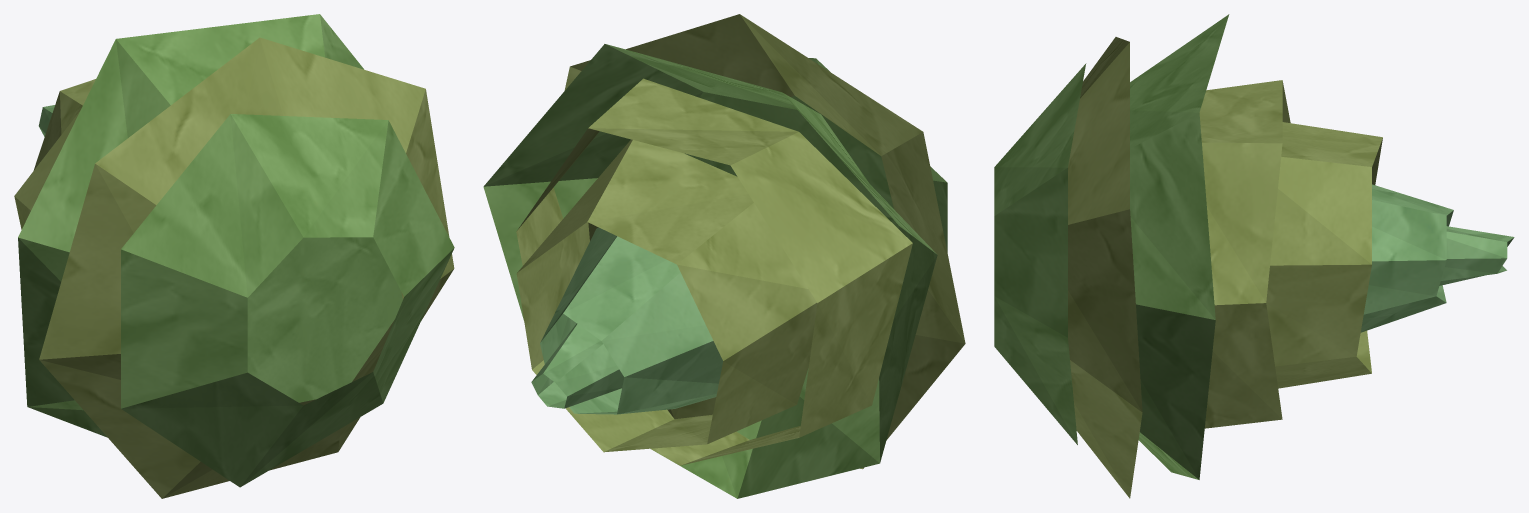
The model's file is bush.FBX.
3 renders of one model, left to right at view 1: azimuth 30°, elevation 25°; view 2: azimuth 150°, elevation 25°; view 3: azimuth 270°, elevation 25°, orthographic. The views are drawn at different scales.
Visible parts, largest first — view 1: Cylinder008; view 2: Cylinder008; view 3: Cylinder008.
Boxes of the visible parts, bbox=[...] form: Cylinder008: bbox=[14, 14, 454, 498]; Cylinder008: bbox=[483, 14, 965, 498]; Cylinder008: bbox=[994, 14, 1514, 498].
Size of the model in its own units: 139 by 141 by 152.
Materials: 3 (3 with a texture image).
